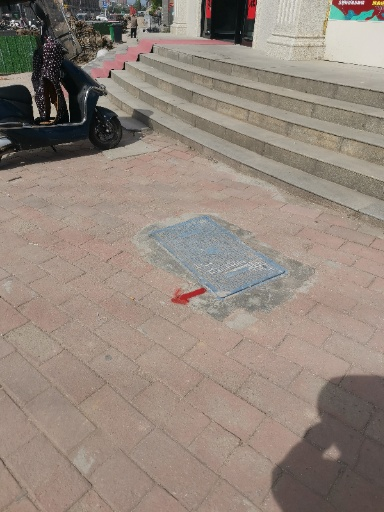good: (150, 215, 289, 299)
